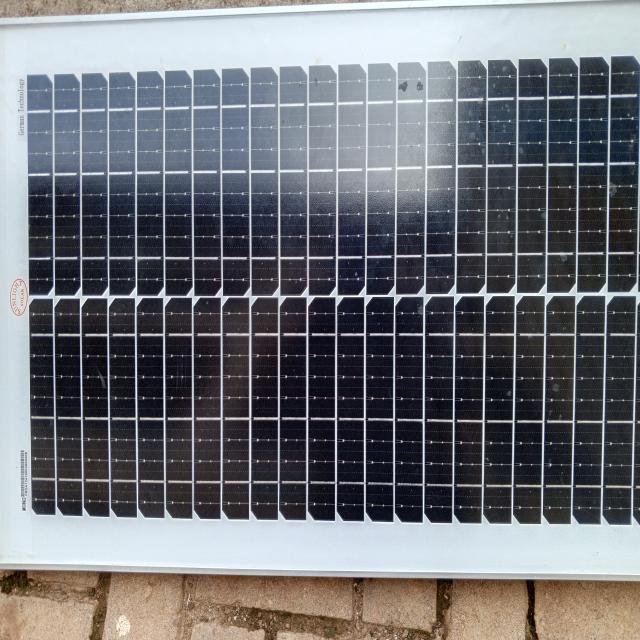Clean: (8, 49, 640, 550)
